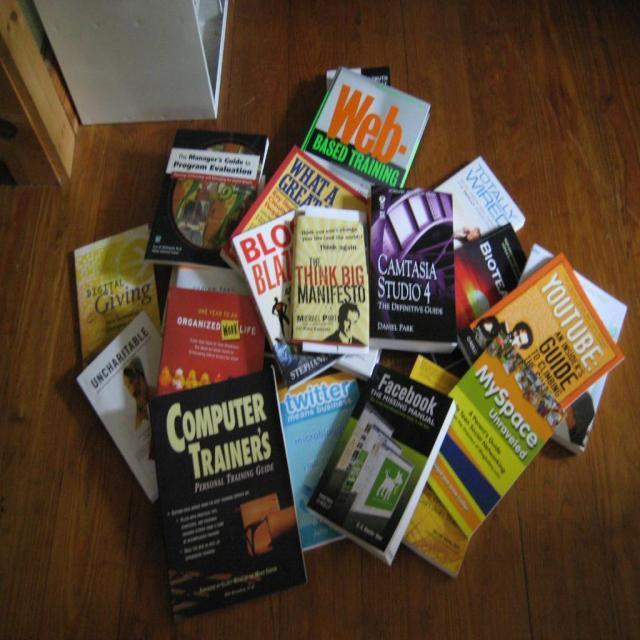book: (150, 366, 307, 612), (306, 364, 463, 566), (426, 329, 569, 538), (516, 245, 629, 459), (229, 200, 349, 390), (462, 251, 629, 364), (143, 125, 272, 271), (299, 65, 432, 203), (77, 308, 168, 503), (277, 371, 364, 555), (369, 180, 460, 354), (159, 260, 270, 394), (73, 224, 168, 366), (292, 210, 371, 356), (328, 66, 393, 93)
